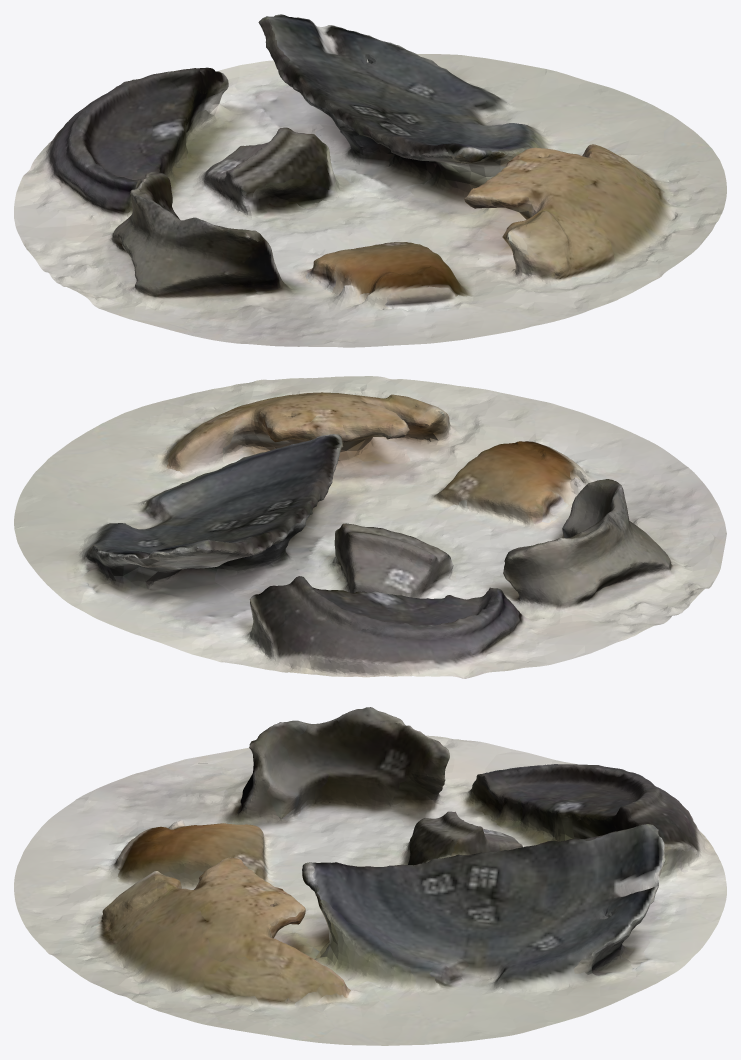
File: model07_small.glb
3 views of the same model, one above another, from view 1: azimuth 30°, elevation 25°; view 2: azimuth 150°, elevation 25°; view 3: azimuth 270°, elevation 25° (orthographic). The views are drawn at different scales.
Visible parts, largest first — view 1: mesh; view 2: mesh; view 3: mesh.
Boxes of the visible parts, bbox=[...] form: mesh: bbox=[14, 14, 726, 347]; mesh: bbox=[14, 376, 726, 678]; mesh: bbox=[14, 707, 726, 1045].
Size of the model in its own units: 0.2985 by 0.0395 by 0.2842.
1 material, 1 textured.
